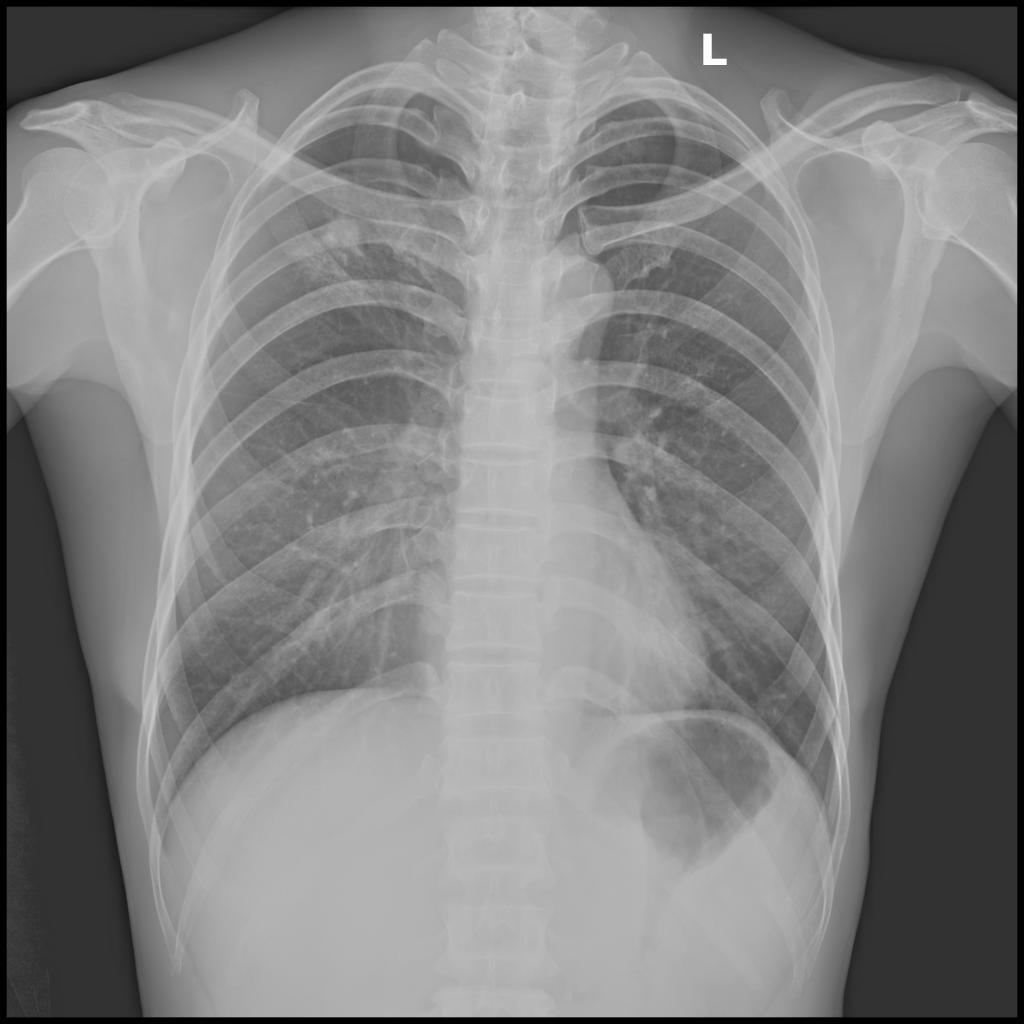Nodule: (324, 212, 362, 255)
